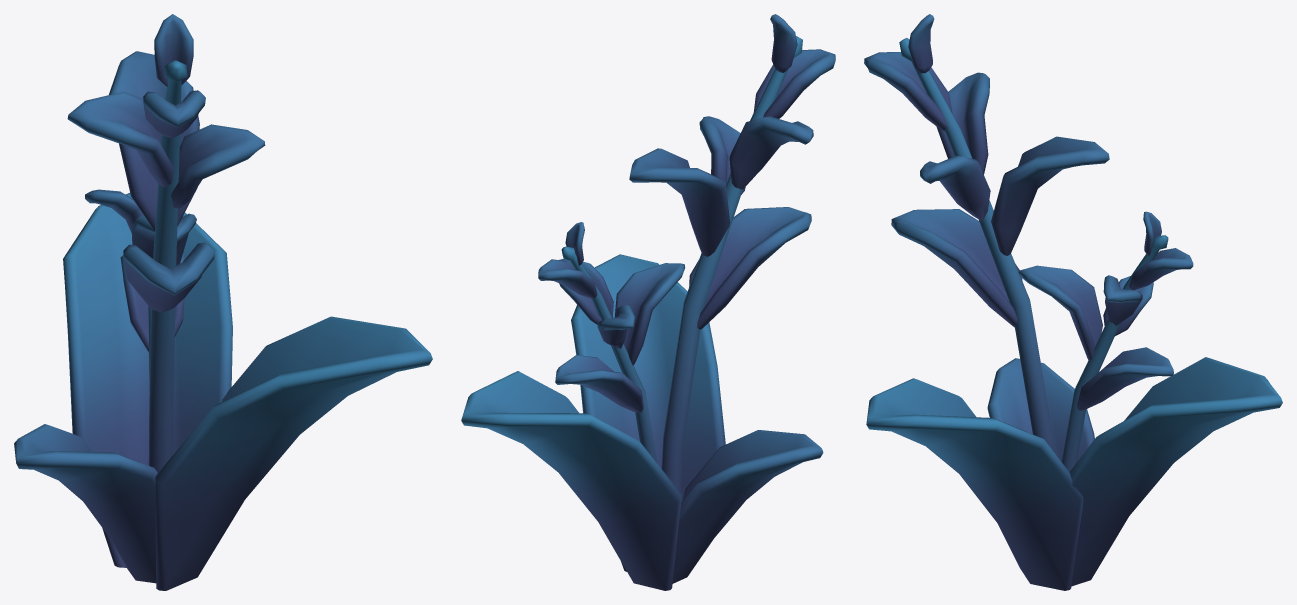
The model's file is Plants_041.fbx.
3 renders of one model, left to right at view 1: azimuth 30°, elevation 25°; view 2: azimuth 150°, elevation 25°; view 3: azimuth 270°, elevation 25°, orthographic. The views are drawn at different scales.
Visible parts, largest first — view 1: Plants.041; view 2: Plants.041; view 3: Plants.041.
Boxes of the visible parts, x1=… form: Plants.041: x1=14, y1=14, x2=432, y2=590; Plants.041: x1=461, y1=14, x2=835, y2=590; Plants.041: x1=864, y1=14, x2=1282, y2=590.
Size of the model in its own units: 626 by 1117 by 792.
